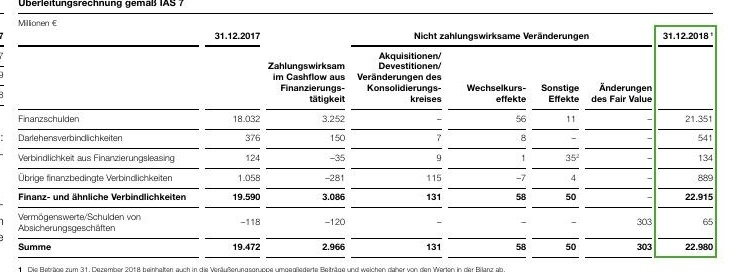table: (0, 0, 730, 272)
